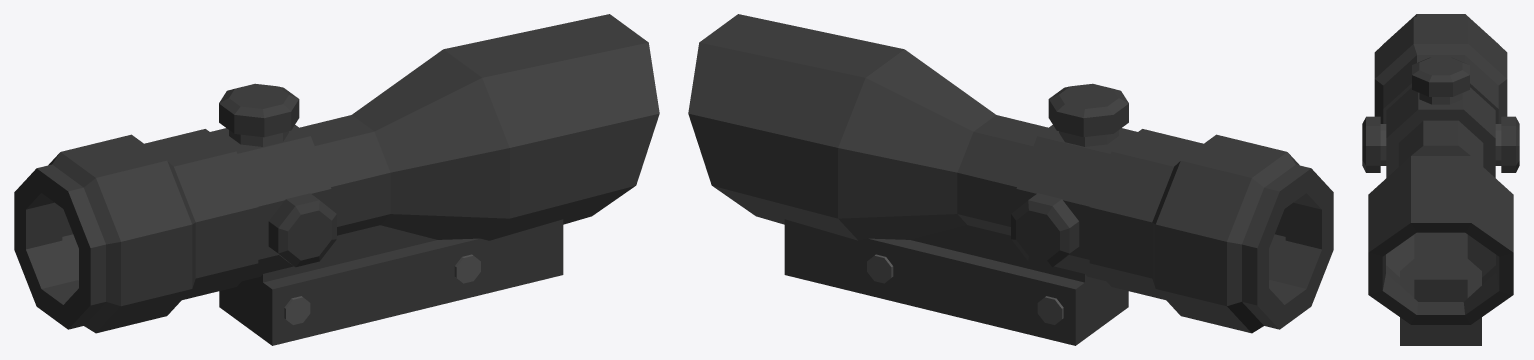
The model's file is Optic_04.fbx.
The picture shows the model from 3 angles, left to right: view 1: azimuth 30°, elevation 25°; view 2: azimuth 150°, elevation 25°; view 3: azimuth 270°, elevation 25°; orthographic projection. The views are drawn at different scales.
Visible parts, largest first — view 1: Optic_04; view 2: Optic_04; view 3: Optic_04.
Part boxes in pixels (x1,y1,x2,y2): Optic_04: (14, 14, 659, 345); Optic_04: (688, 14, 1333, 345); Optic_04: (1362, 14, 1519, 345).
Bounding box in the file's own units: 0.1753 × 0.0659 × 0.0536.
